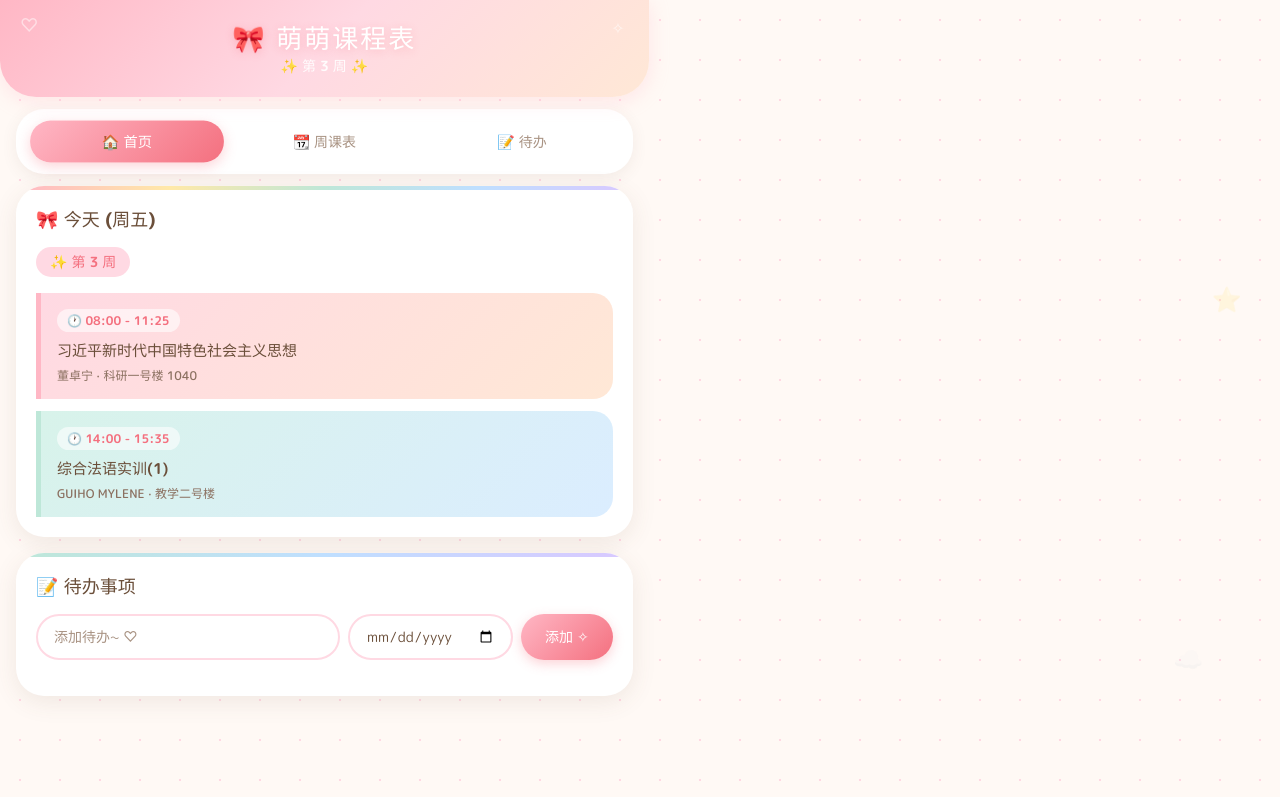
Week Navigation › should decrement week when clicking prev
The image size is (1280, 797).
Click the button "📆 周课表".
click(324, 142)  # box [230, 121, 419, 162]
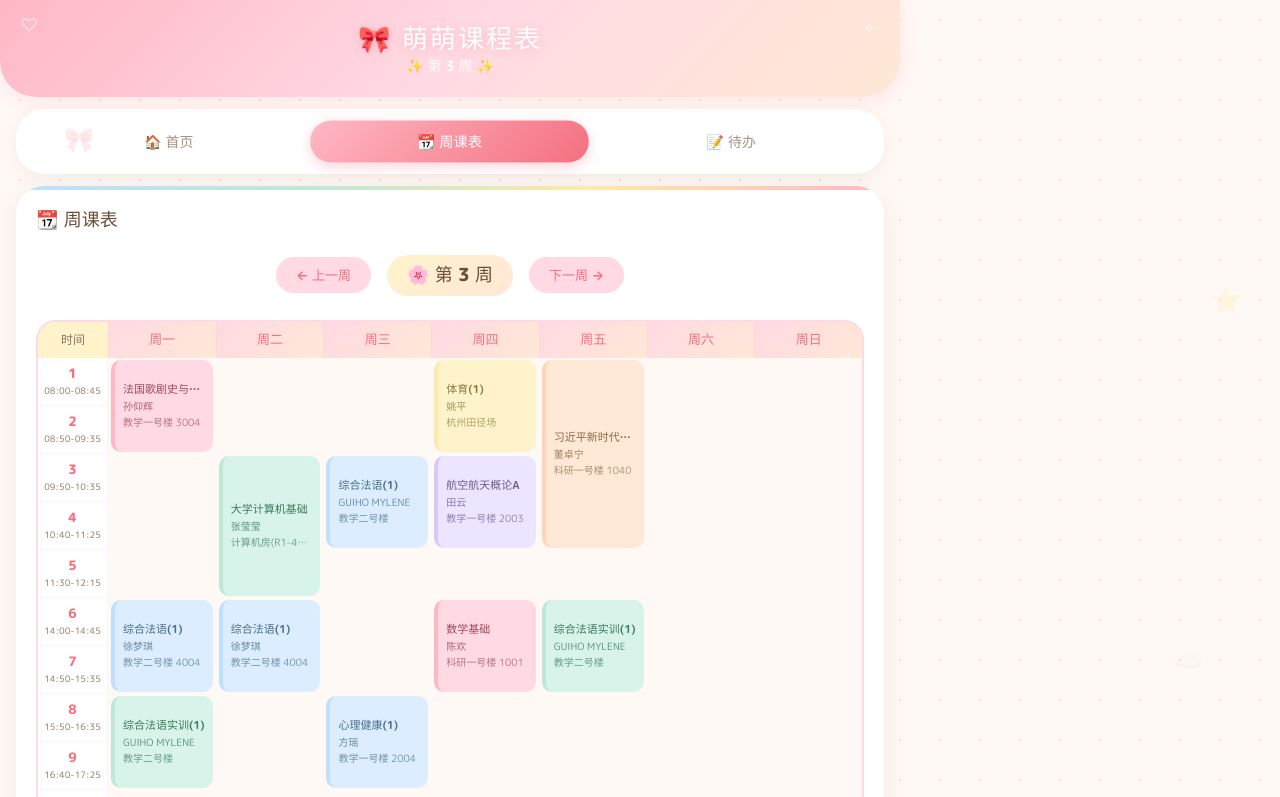
Click the button "← 上一周".
click(323, 275)  # box [276, 257, 371, 293]
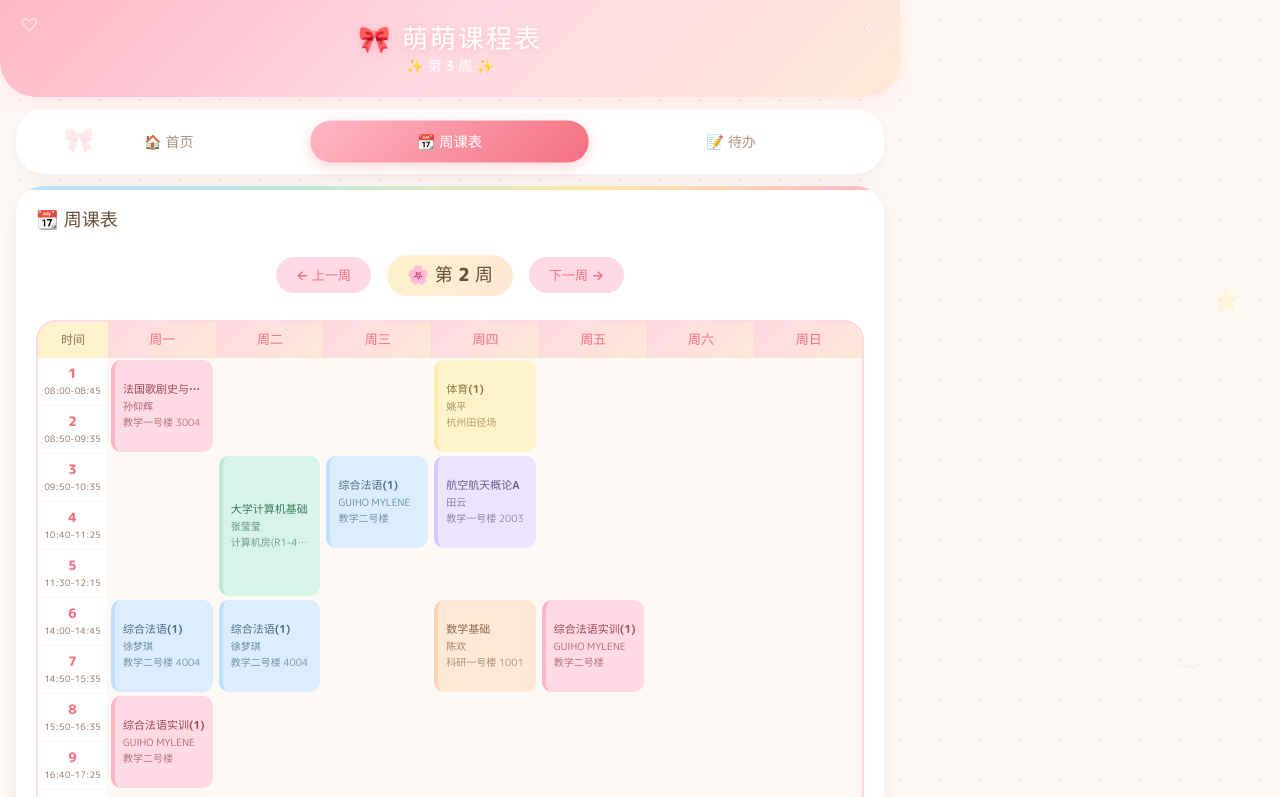
expect the text "🌸 第 2 周" is shown: met, box [387, 255, 513, 296]
